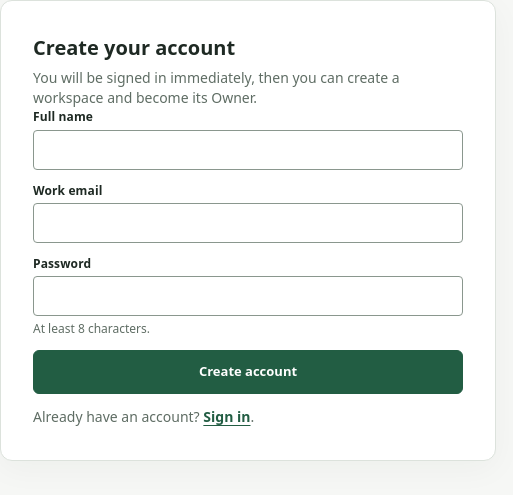
Test: SignupForm › surfaces a friendly message for an existing account
In the field labelled "Full name": point(248, 150) [33,130,463,170], type "New User"
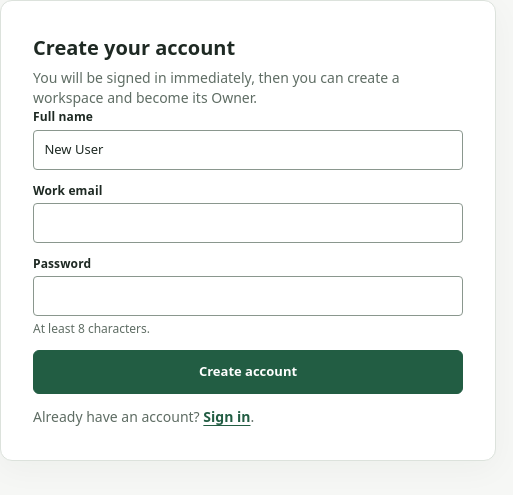
In the field labelled "Work email": point(248, 223) [33,203,463,243], type "new@example.test"
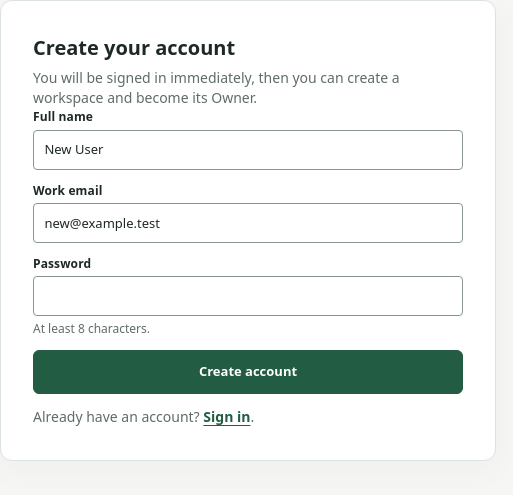
In the password field labelled "Password": point(248, 296) [33,276,463,316], type "longenoughpass"
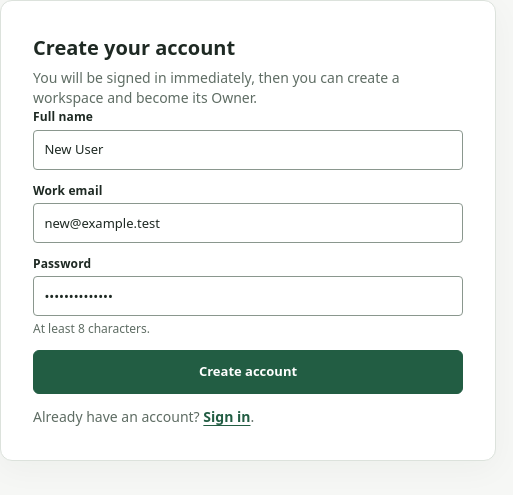
Click the button "Create account": point(248, 372) [33,350,463,394]
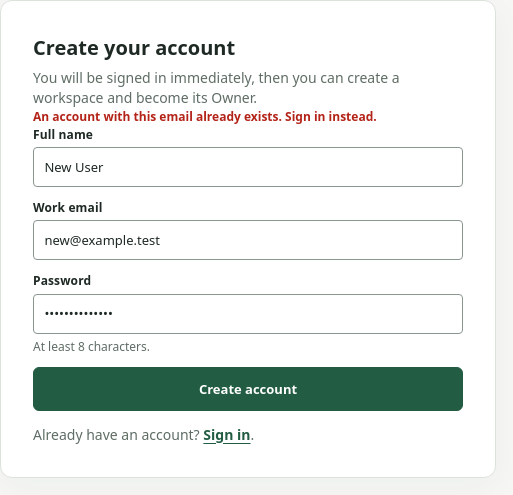
Result: the message shows "already exists" at [33,108,377,125]
